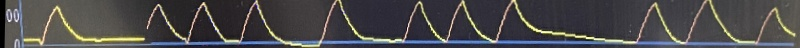normal_volume: (28, 0, 800, 48)
